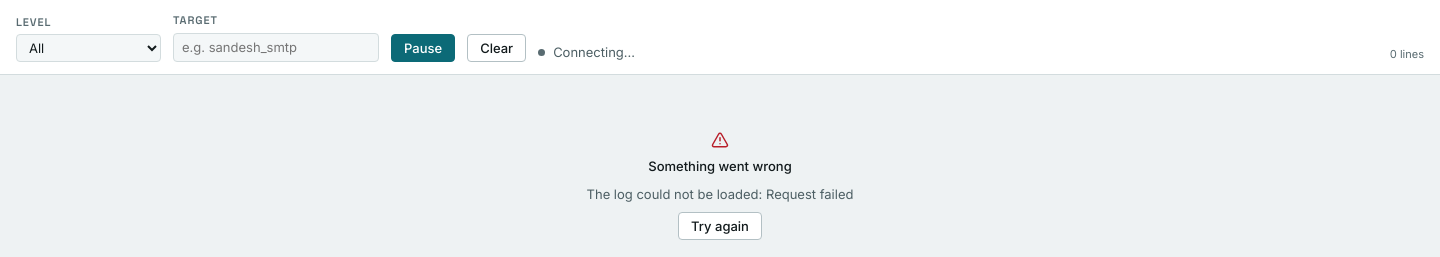
it: states (Phase 7 Pass B) › offers a retry after a failure, and refetches on it
Click the button "Try again" at x=720, y=226, box x1=678 y1=212 x2=762 y2=240
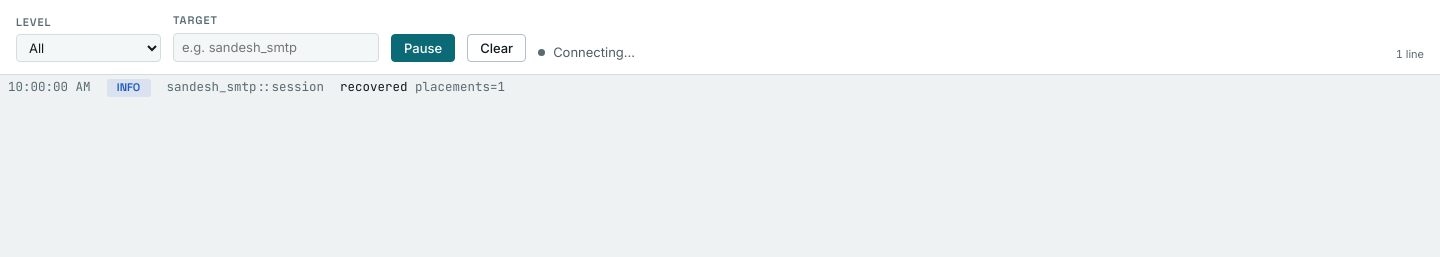
Expected: the text "recovered" is shown, x1=340 y1=78 x2=408 y2=95
